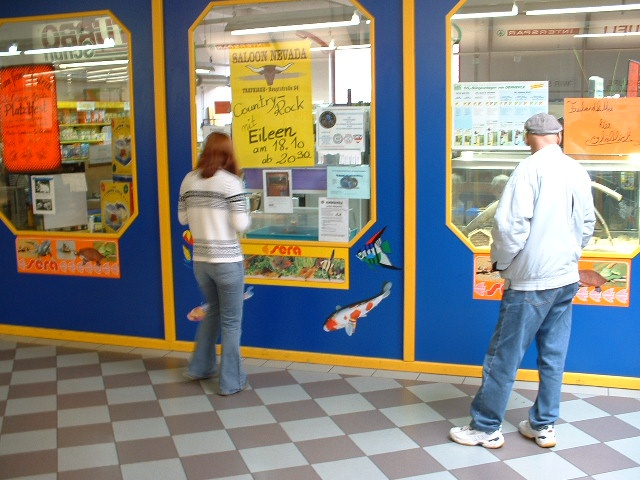person: (480, 111, 589, 443), (183, 128, 249, 395)
